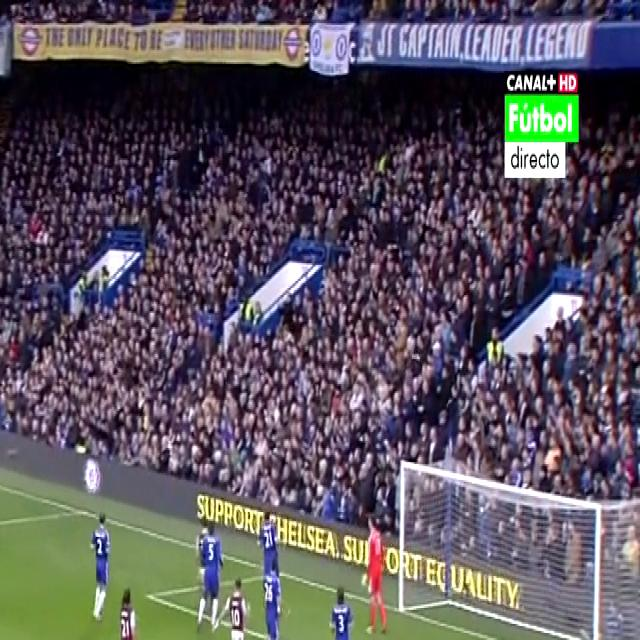goalkeeper: (355, 501, 392, 640)
soccer-player: (189, 503, 224, 635), (256, 502, 292, 612), (86, 500, 115, 624), (321, 569, 360, 640), (258, 556, 288, 640), (221, 570, 256, 640), (111, 578, 146, 640)
